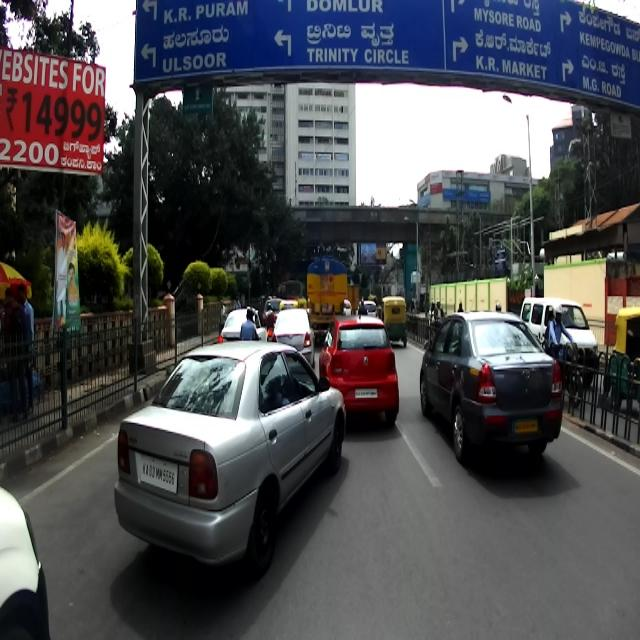car: (113, 339, 345, 572), (420, 311, 565, 461), (313, 314, 400, 428)
mini-bus: (521, 295, 597, 385)
motorcycle: (540, 335, 582, 407)
